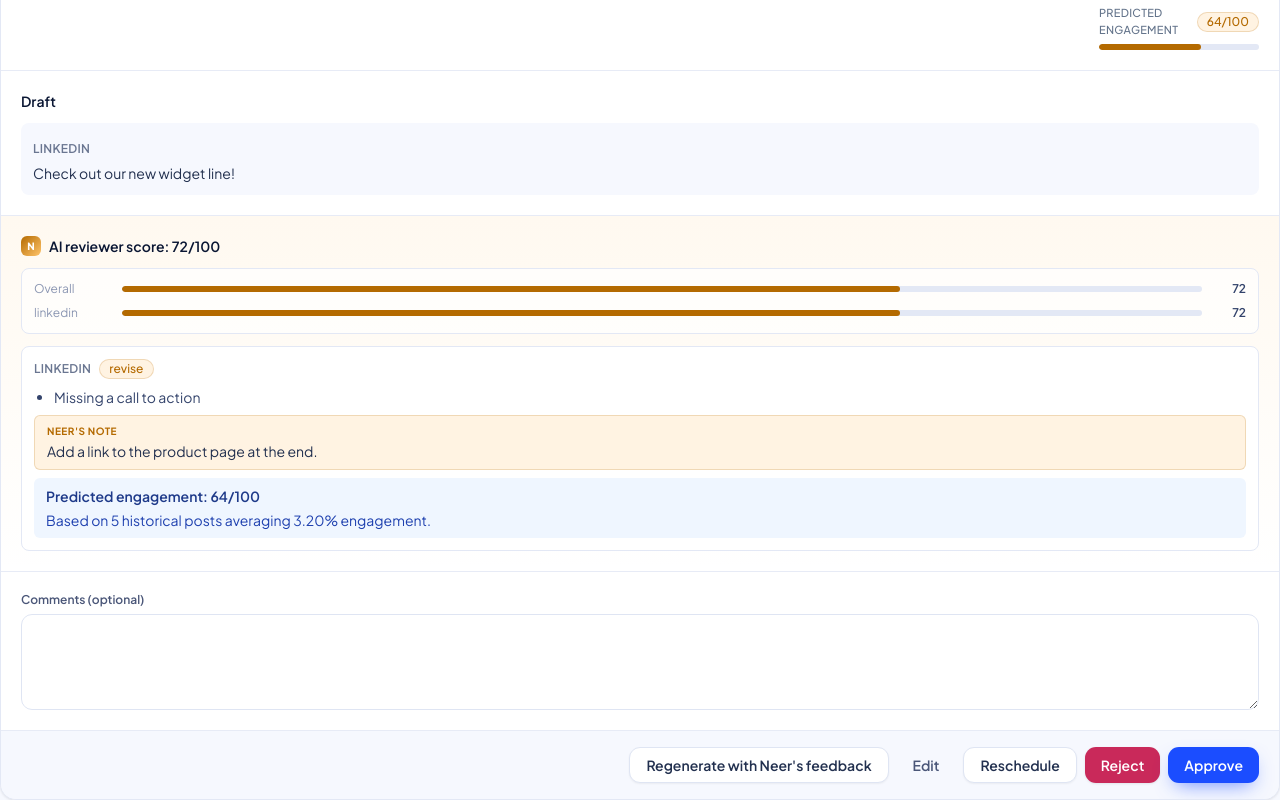
Test: ReviewQueuePage › approves a post through the API and removes it from the queue
(page scrolled)
expect the text "Check out our new widget line!" is shown: met, box [33,164,235,182]
Click the button "Approve". click: (1214, 765)
box: [1168,747,1259,783]
(page scrolled)
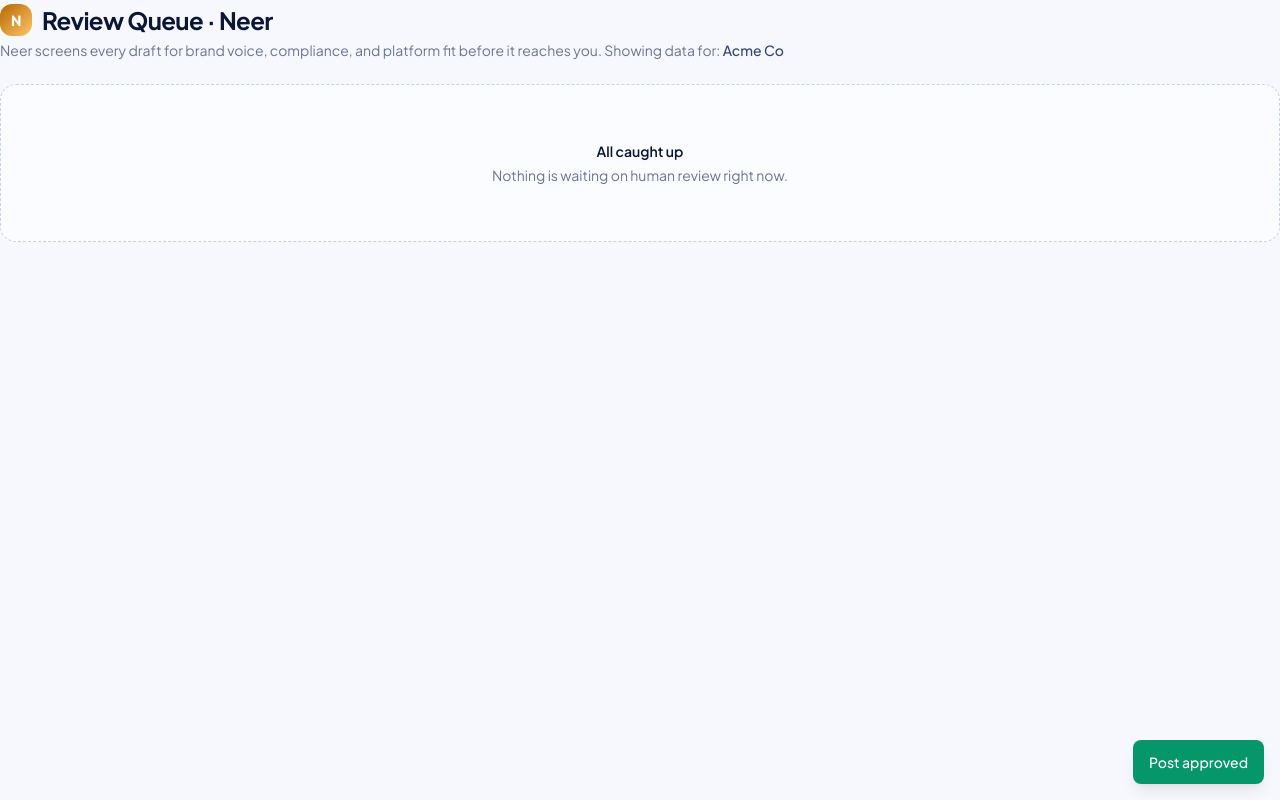
expect the text "Check out our new widget line!" is gone: met
